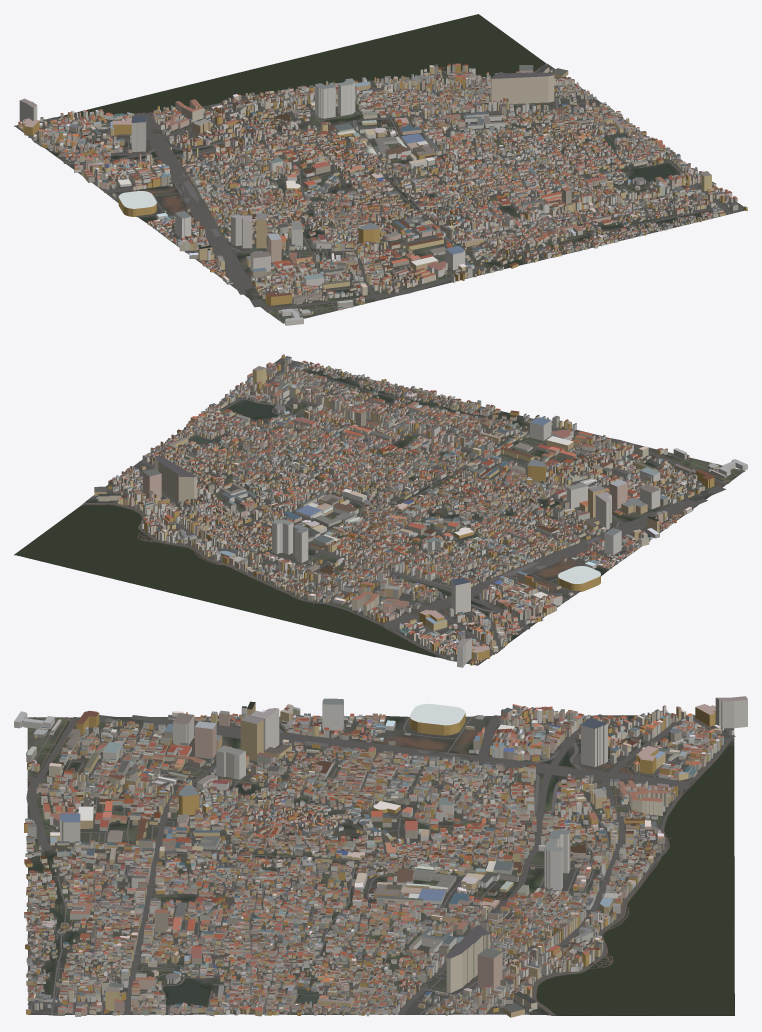
The picture shows the model from 3 angles, top to bottom: view 1: azimuth 30°, elevation 25°; view 2: azimuth 150°, elevation 25°; view 3: azimuth 270°, elevation 25°; orthographic projection. The views are drawn at different scales.
Parts seen in each view (by area): view 1: buildings, ground, water, roads; view 2: buildings, ground, water, roads; view 3: buildings, ground, water, roads.
Boxes of the visible parts, x1=… form: buildings: x1=18, y1=63, x2=747, y2=325; ground: x1=14, y1=14, x2=747, y2=323; water: x1=34, y1=14, x2=737, y2=311; roads: x1=14, y1=63, x2=741, y2=323; buildings: x1=94, y1=354, x2=747, y2=667; ground: x1=14, y1=358, x2=745, y2=665; water: x1=15, y1=367, x2=728, y2=658; roads: x1=82, y1=360, x2=743, y2=665; buildings: x1=14, y1=696, x2=747, y2=1017; ground: x1=27, y1=715, x2=734, y2=1015; water: x1=44, y1=717, x2=734, y2=1015; roads: x1=26, y1=714, x2=735, y2=1015.
Bounding box in the file's own units: 1431 × 92.32 × 1456.
